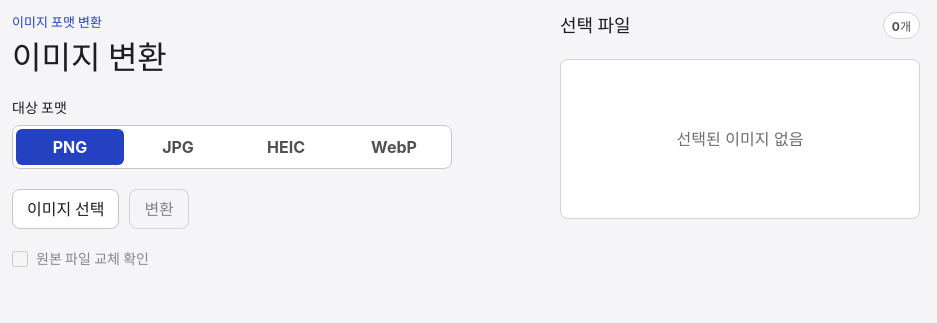
Test: ImageFormatConverterTool › shows the backend conversion error message
The width and height of the screenshot is (937, 323).
Click the button "이미지 선택" at (66, 209), box left=12, top=189, right=119, bottom=229
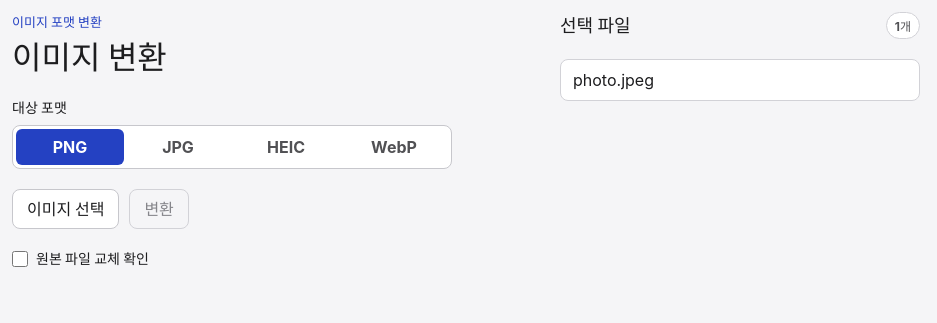
Click the checkbox labelled "원본 파일 교체 확인" at (20, 259), box left=12, top=251, right=28, bottom=267
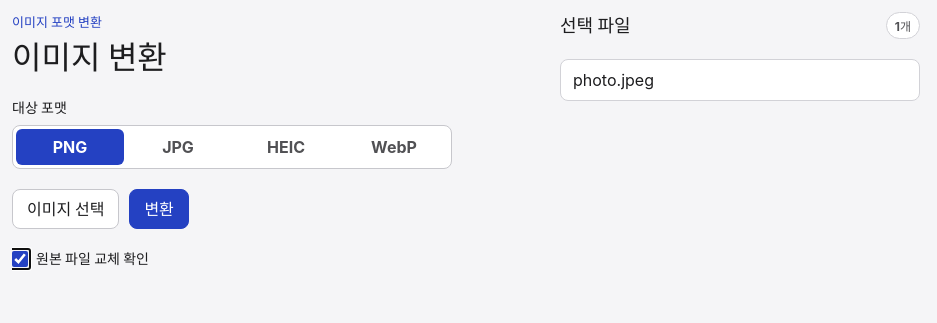
Click the button "변환" at (159, 209), box left=129, top=189, right=189, bottom=229
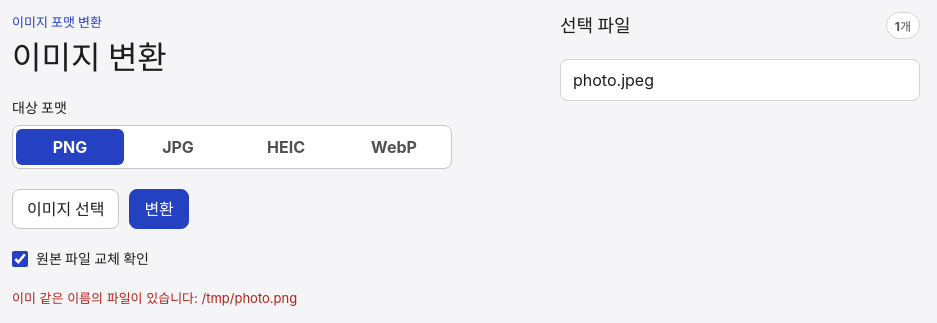
expect the message reads "이미 같은 이름의 파일이 있습니다: /tmp/photo.png": met, box left=12, top=290, right=297, bottom=306
